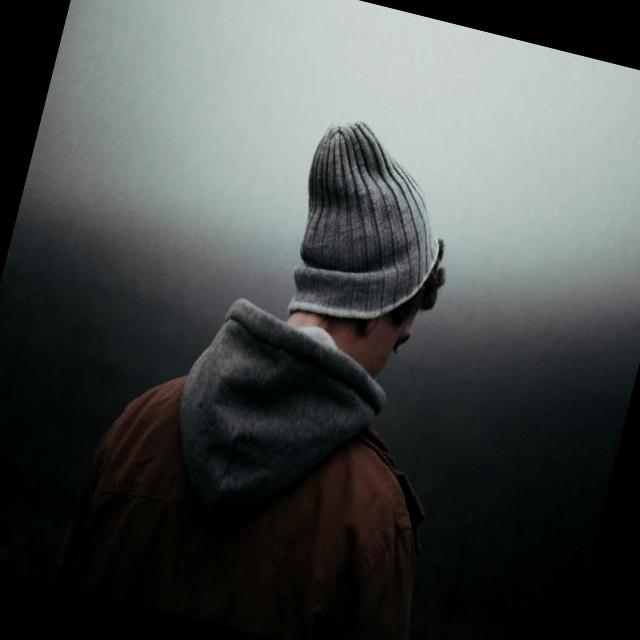person: (47, 73, 531, 640)
